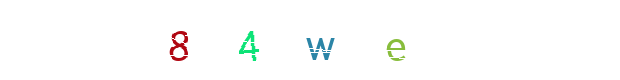4: (247, 0, 327, 80)
8: (139, 0, 219, 80)
E: (319, 0, 399, 80)
W: (270, 0, 350, 80)
